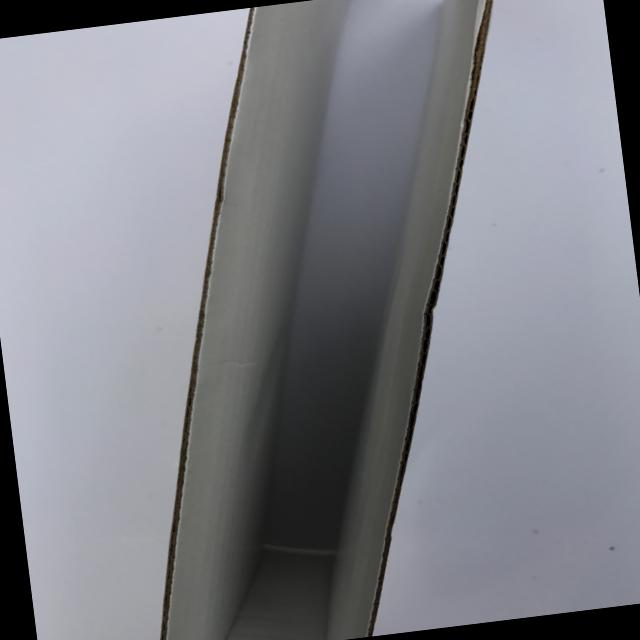Cardboard: (75, 0, 574, 640)
